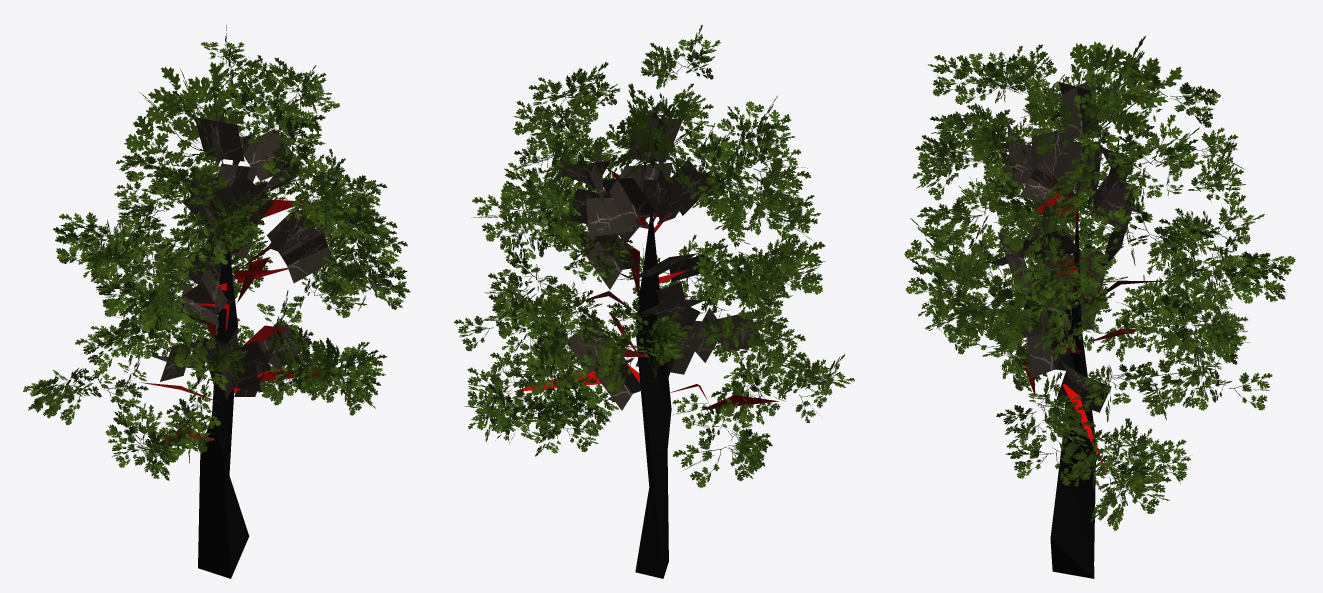
The model's file is maple2 lod3.FBX.
3 views of the same model, side by side, from view 1: azimuth 30°, elevation 25°; view 2: azimuth 150°, elevation 25°; view 3: azimuth 270°, elevation 25° (orthographic). The views are drawn at different scales.
Visible parts, largest first — view 1: maple2_LOD3; view 2: maple2_LOD3; view 3: maple2_LOD3.
Part boxes in pixels (box(x1,y1,x2,y2)): maple2_LOD3: box(23, 25, 410, 578); maple2_LOD3: box(454, 25, 854, 578); maple2_LOD3: box(904, 35, 1295, 578).
Bounding box in the file's own units: 89077 × 124796 × 85048.
